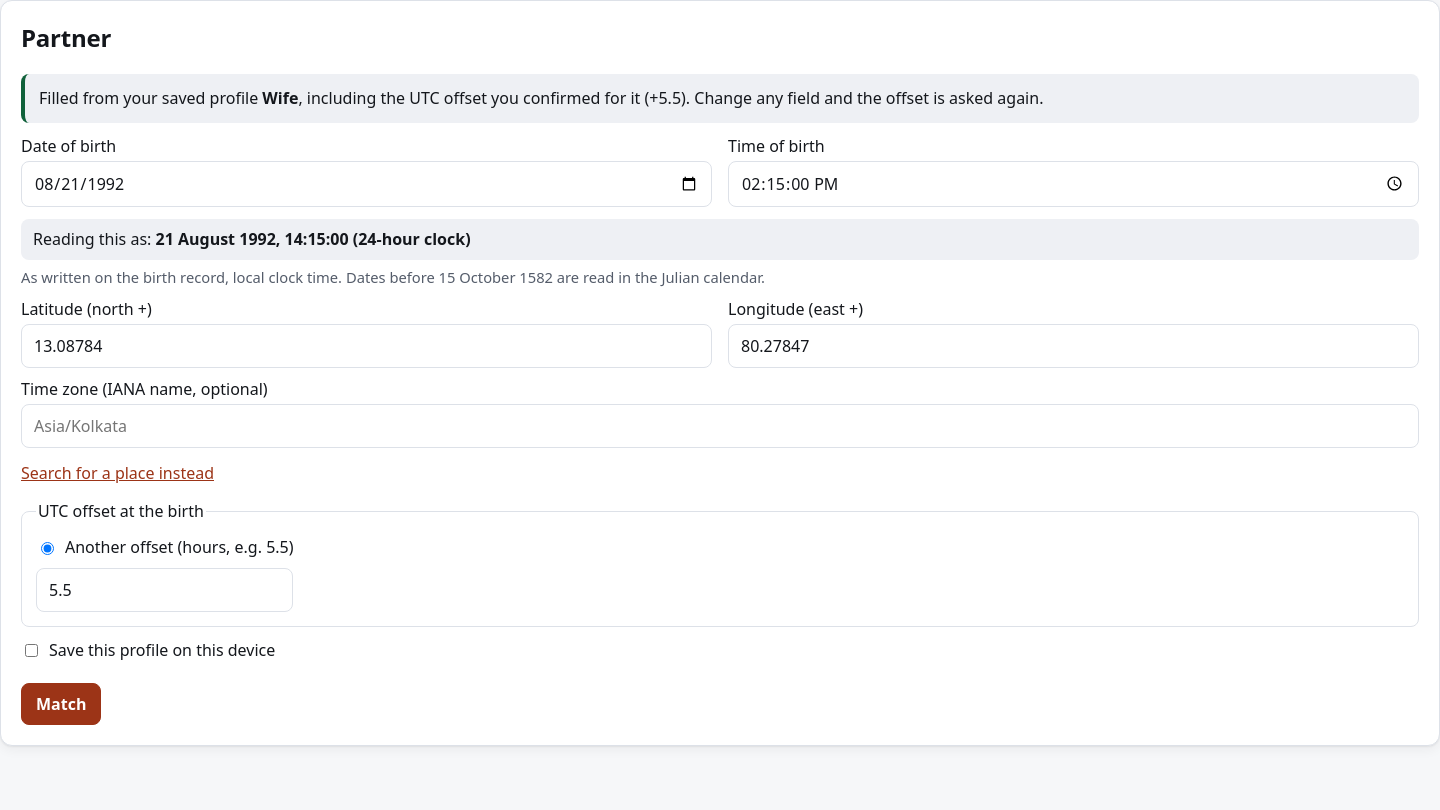
Test: BirthForm filled from a saved profile › asks about the offset again once a field is edited by hand
Expected: the message shows "Filled from your saved profile", [39,87,262,109]
Clear the date field labelled "Date of birth" at (366, 184), box [21,161,712,207]
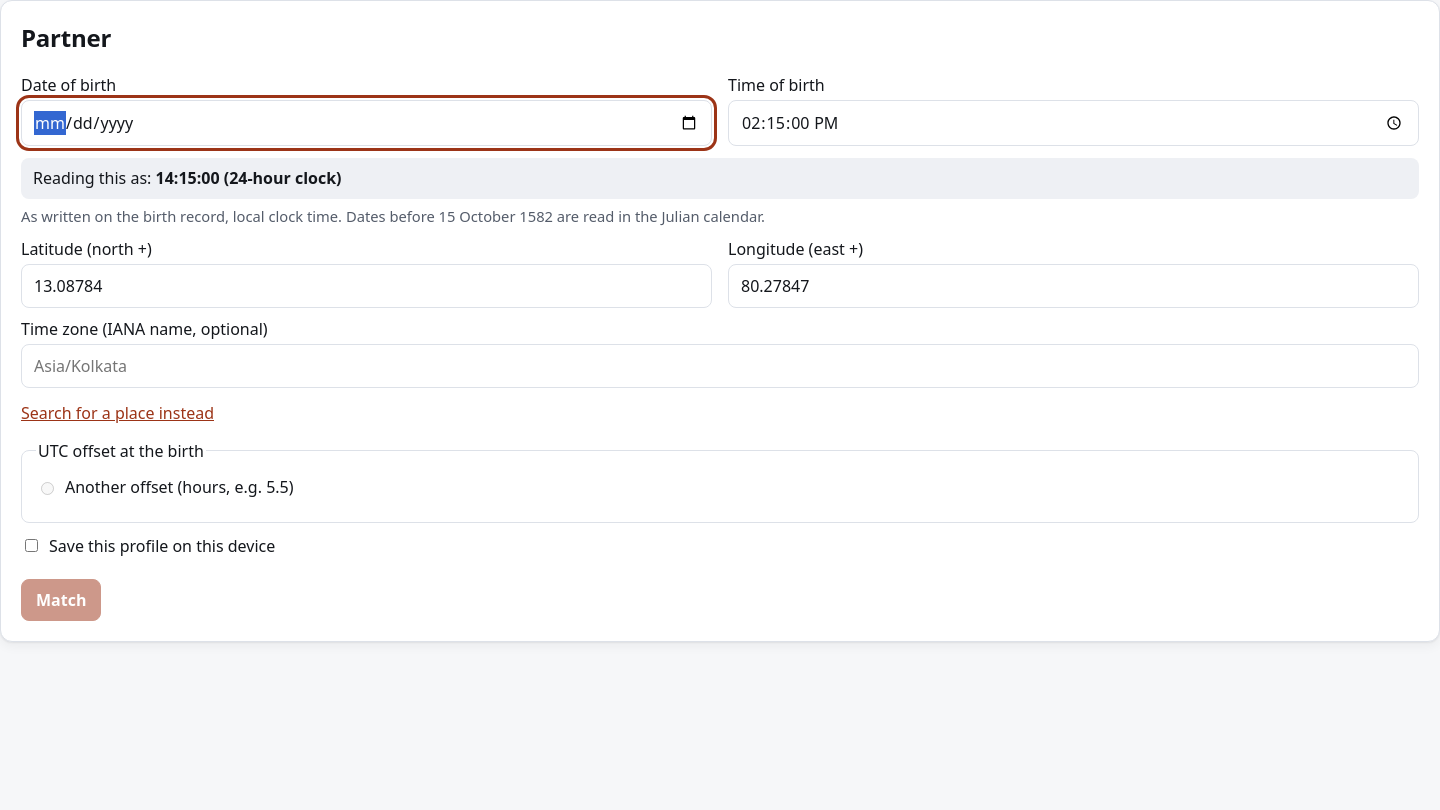
Result: the text "Filled from your saved profile" is gone
